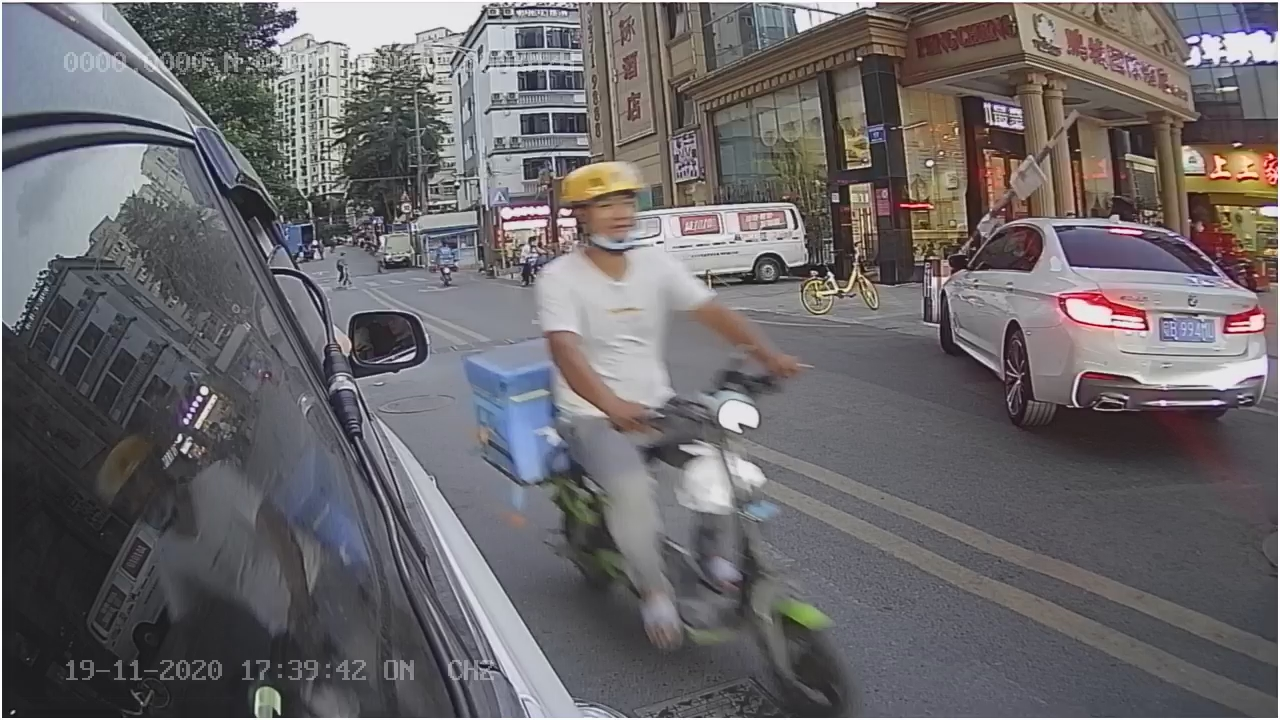person: (533, 164, 677, 397)
